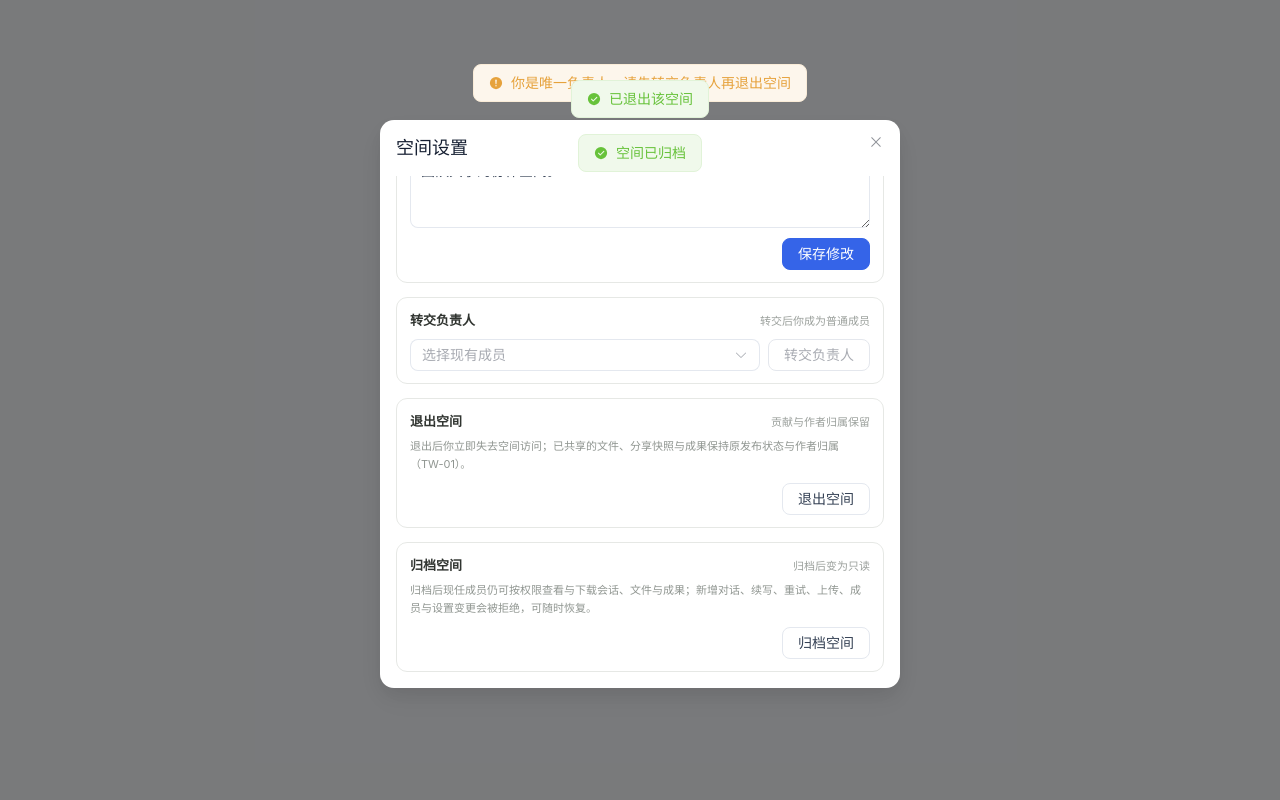
Scenario: WorkspaceSettingsDialog › surfaces the wait-or-cancel hint when archive conflicts with queued or running runs (409)
(page scrolled)
Click the button with test id "settings-archive-confirm" at (826, 643), box [782,627,870,659]
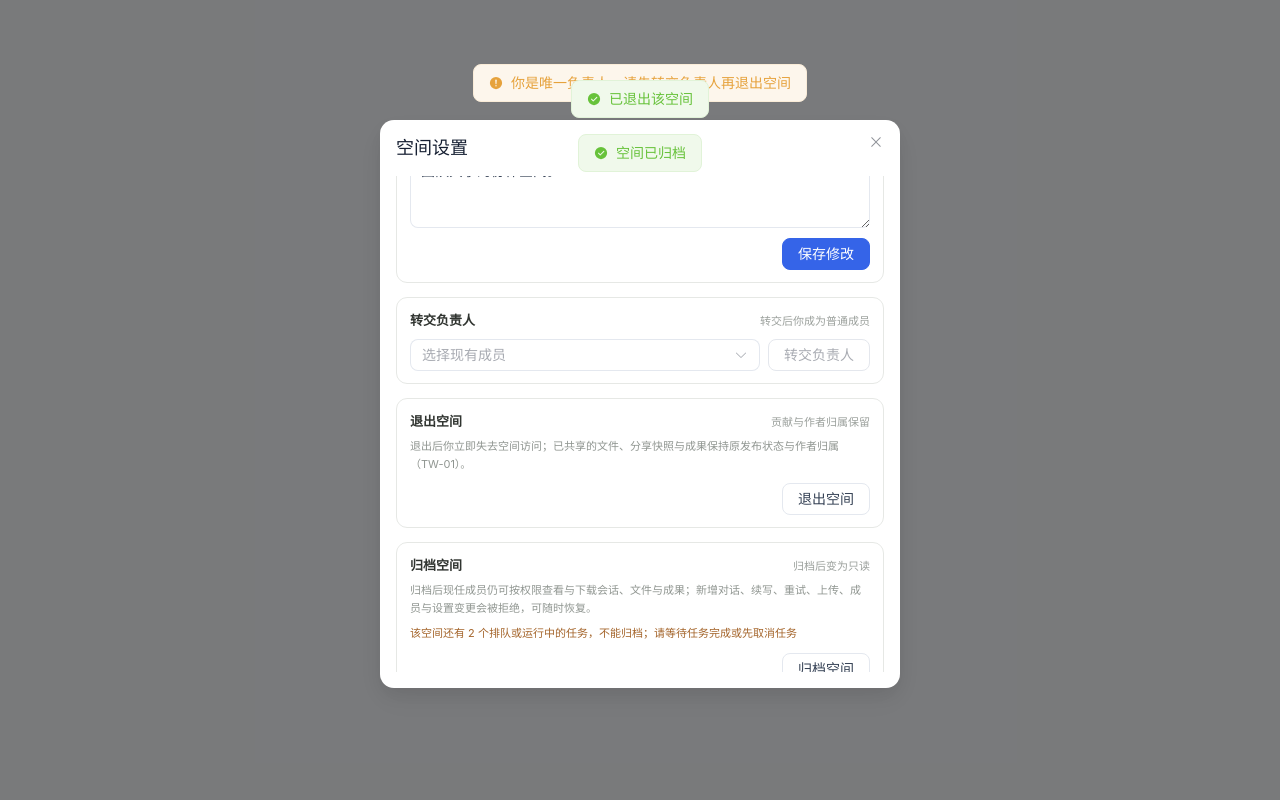
Now the text with test id "settings-archive-conflict" shows "2 个排队或运行中", box [410,626,797,640]
Now the text with test id "settings-archive-conflict" shows "请等待", box [410,626,797,640]
Now the text with test id "settings-archive-conflict" shows "先取消", box [410,626,797,640]
